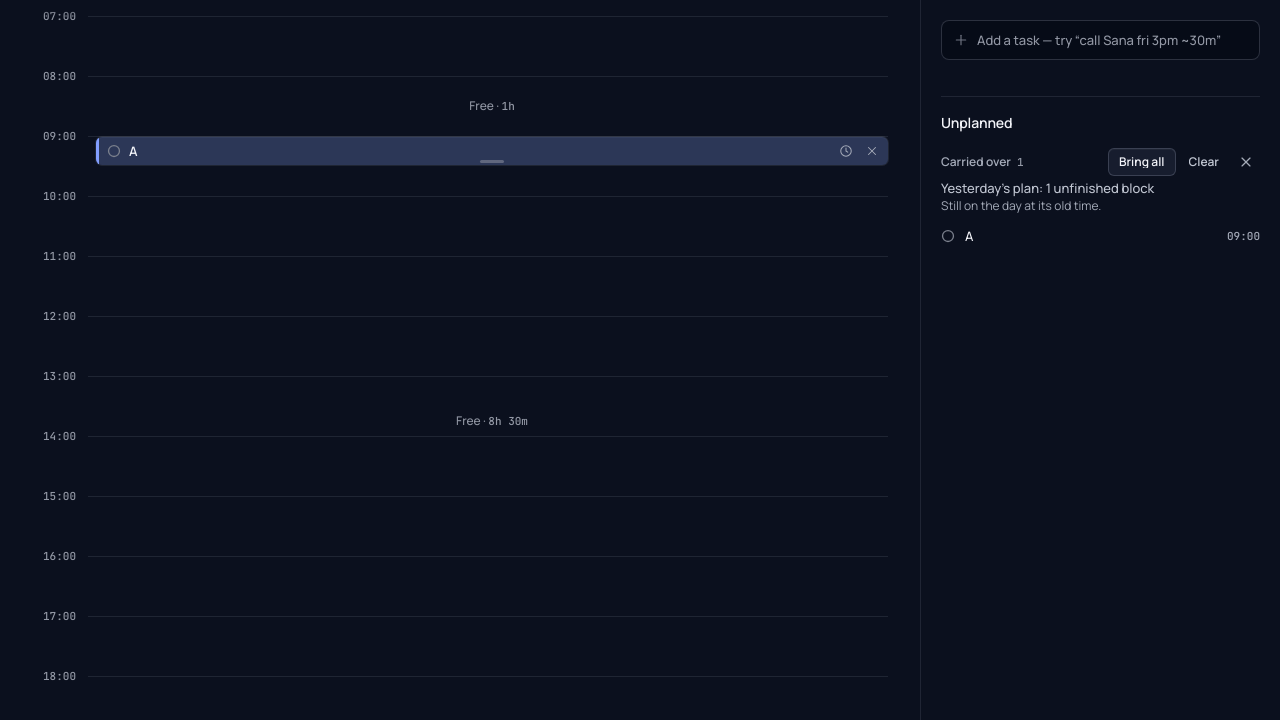
Test case: PlanView › keeps a pending prompt across visits, and Keep answers it for the day
The image size is (1280, 720).
Expected: the text "Yesterday's plan: 1 unfinished block" is shown, [941,179,1154,197]
Click the button named "Keep them where they are" at (1246, 162), box [1232,148,1260,176]
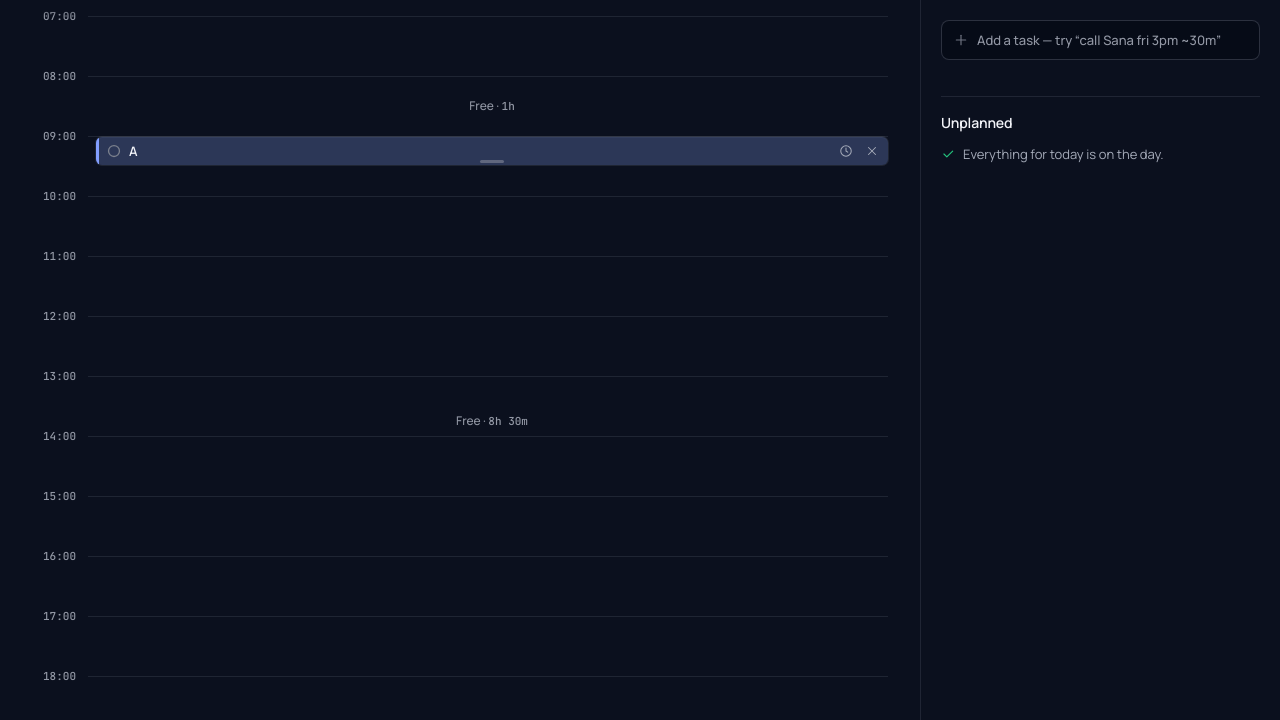
Expected: the text "unfinished block" is gone
